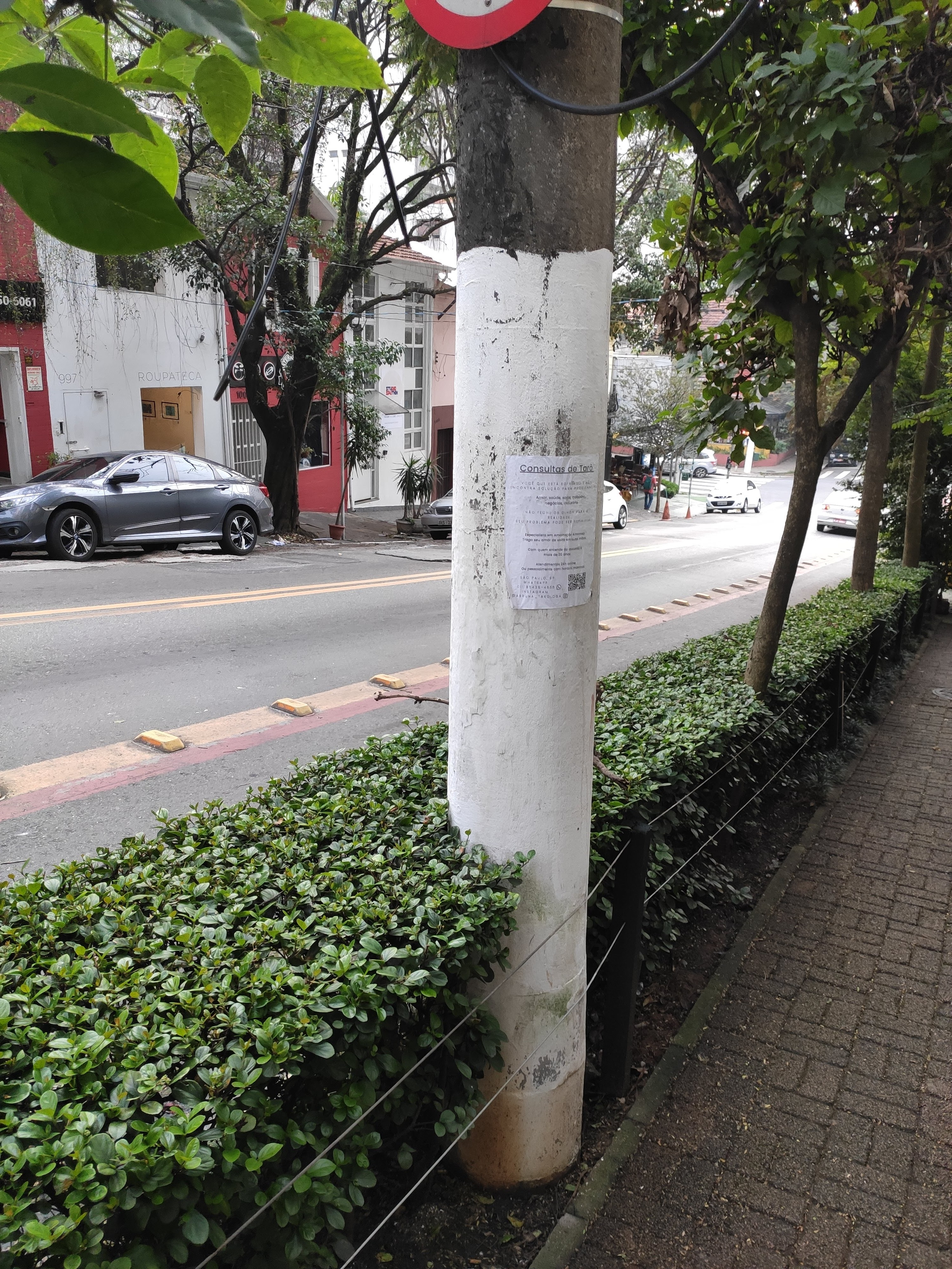QR-CODE: (568, 572, 586, 591)
